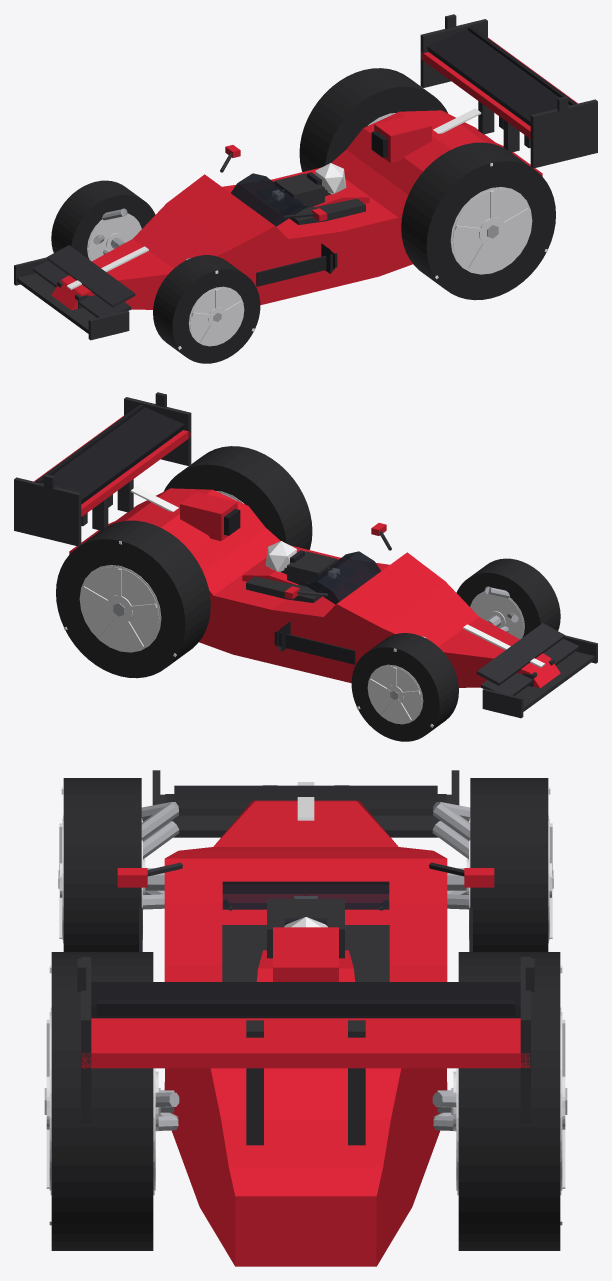
Rendered from race_car.glb.
The picture shows the model from 3 angles, top to bottom: view 1: azimuth 30°, elevation 25°; view 2: azimuth 150°, elevation 25°; view 3: azimuth 270°, elevation 25°; orthographic projection. The views are drawn at different scales.
Visible parts, largest first — view 1: Body, Tire_Rear_R, Tire_Rear_L, Tire_Front_R, Wing_Flap, Rim_Rear_R, Tire_Front_L, Wing_Endplate_R, Front_Wing_Flap2, Windscreen, Airbox, Rim_Front_R (+14 smaller); view 2: Body, Tire_Rear_L, Tire_Rear_R, Tire_Front_L, Wing_Flap, Rim_Rear_L, Tire_Front_R, Wing_Endplate_L, Front_Wing_Flap2, Windscreen, Airbox, Rim_Front_L (+14 smaller); view 3: Body, Tire_Rear_L, Tire_Rear_R, Wing_Main, Tire_Front_L, Tire_Front_R, Wing_Flap, Wing_Gurney, Cockpit_Tub, Front_Wing_Flap2, Windscreen, Airbox (+12 smaller).
Part boxes in pixels (x1=…): Body: x1=51, y1=110, x2=542, y2=310; Tire_Rear_R: x1=401, y1=142, x2=555, y2=300; Tire_Rear_L: x1=299, y1=68, x2=447, y2=171; Tire_Front_R: x1=153, y1=255, x2=260, y2=363; Wing_Flap: x1=427, y1=29, x2=570, y2=126; Rim_Rear_R: x1=452, y1=189, x2=530, y2=272; Tire_Front_L: x1=51, y1=180, x2=155, y2=259; Wing_Endplate_R: x1=530, y1=99, x2=597, y2=168; Front_Wing_Flap2: x1=46, y1=245, x2=135, y2=307; Windscreen: x1=231, y1=173, x2=307, y2=226; Airbox: x1=374, y1=114, x2=431, y2=162; Rim_Front_R: x1=190, y1=288, x2=243, y2=344; Body: x1=69, y1=488, x2=560, y2=688; Tire_Rear_L: x1=56, y1=520, x2=210, y2=678; Tire_Rear_R: x1=164, y1=446, x2=312, y2=549; Tire_Front_L: x1=351, y1=633, x2=458, y2=741; Wing_Flap: x1=41, y1=407, x2=184, y2=504; Rim_Rear_L: x1=81, y1=567, x2=159, y2=650; Tire_Front_R: x1=456, y1=558, x2=560, y2=637; Wing_Endplate_L: x1=14, y1=477, x2=81, y2=546; Front_Wing_Flap2: x1=476, y1=623, x2=565, y2=685; Windscreen: x1=304, y1=551, x2=380, y2=604; Airbox: x1=180, y1=492, x2=237, y2=540; Rim_Front_L: x1=368, y1=666, x2=421, y2=722; Body: x1=164, y1=800, x2=447, y2=1266; Tire_Rear_L: x1=458, y1=952, x2=560, y2=1250; Tire_Rear_R: x1=51, y1=952, x2=153, y2=1250; Wing_Main: x1=81, y1=1018, x2=530, y2=1068; Tire_Front_L: x1=470, y1=778, x2=548, y2=951; Tire_Front_R: x1=63, y1=778, x2=141, y2=951; Wing_Flap: x1=91, y1=982, x2=520, y2=1018; Wing_Gurney: x1=96, y1=1000, x2=515, y2=1015; Cockpit_Tub: x1=222, y1=925, x2=389, y2=981; Front_Wing_Flap2: x1=174, y1=785, x2=437, y2=800; Windscreen: x1=222, y1=881, x2=389, y2=909; Airbox: x1=273, y1=927, x2=338, y2=981.
Bounding box in the file's own units: 3.78 × 1.3 × 1.75.
